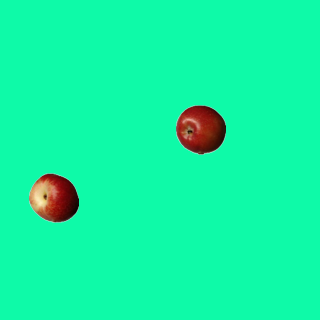Apple Braeburn: (175, 104, 225, 154)
Nectarine: (28, 172, 78, 222)
